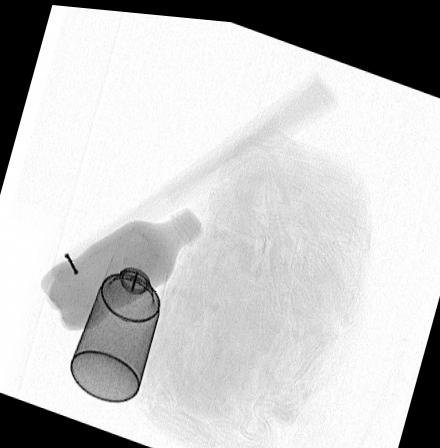Sprayer: (68, 240, 169, 401)
